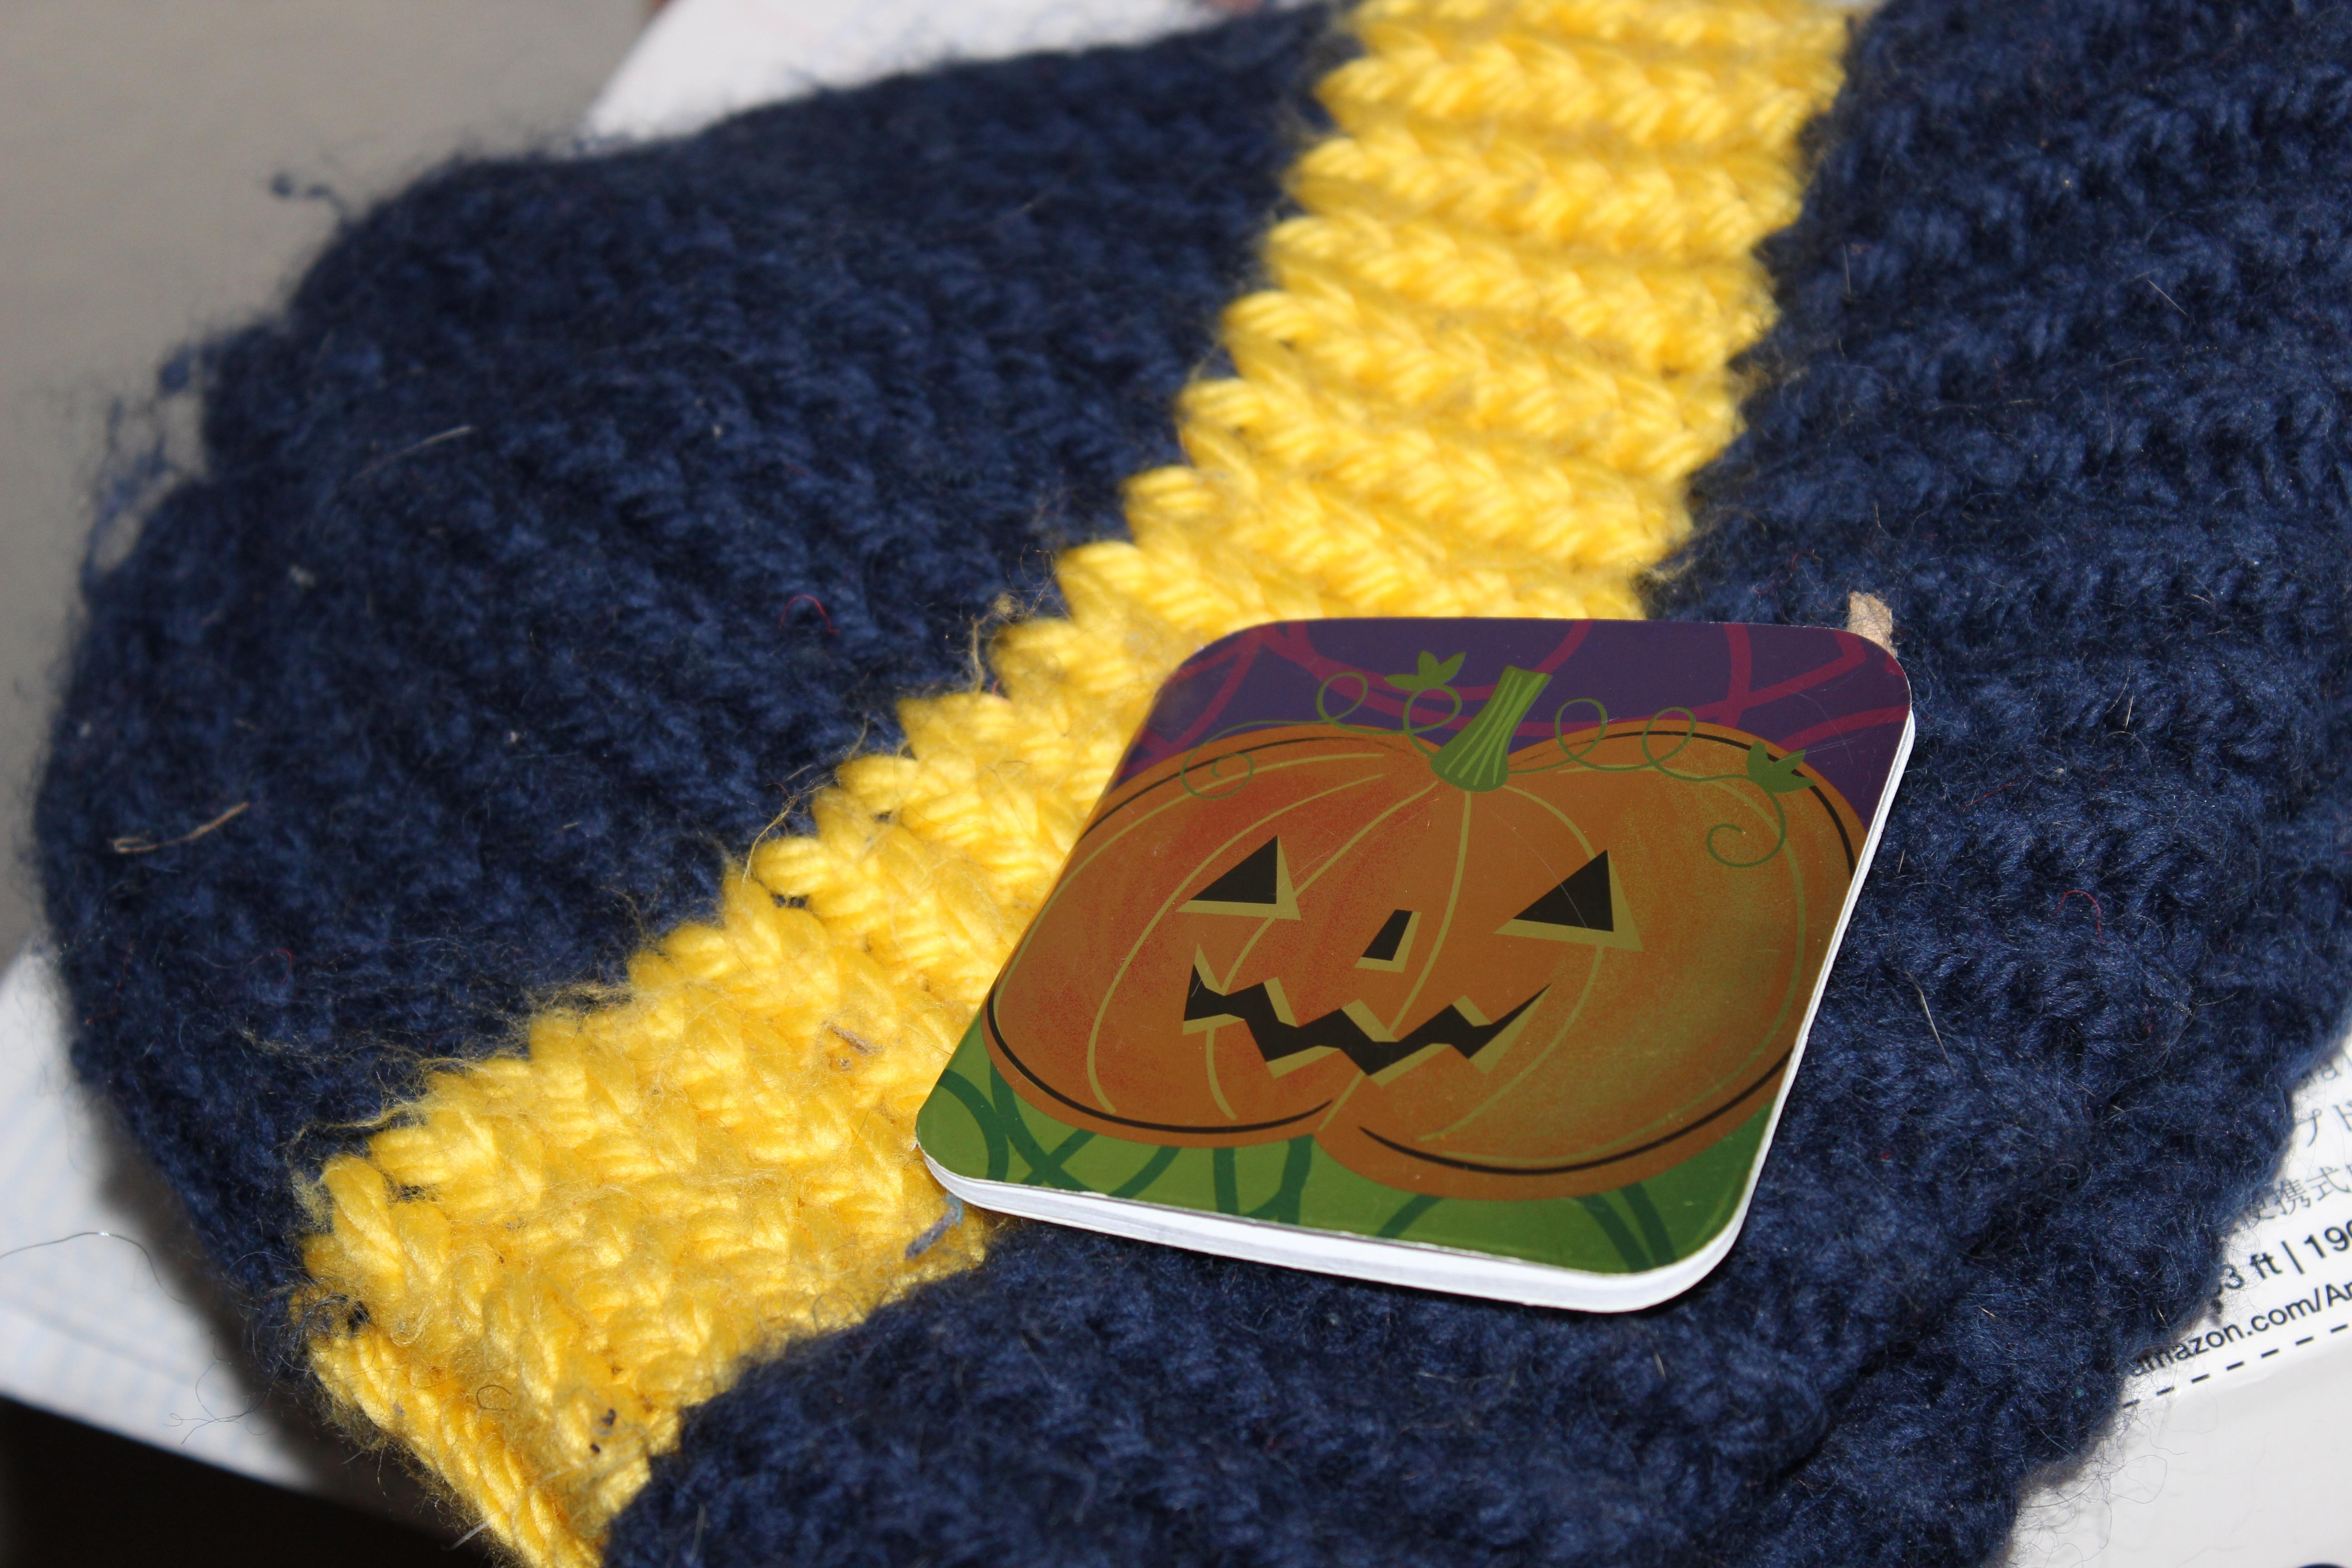pumpkinNotes: (887, 581, 1943, 1346)
